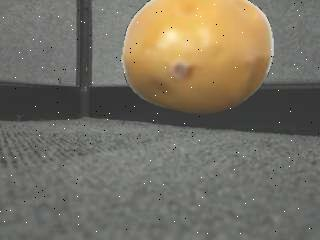Potato: (119, 0, 277, 114)
